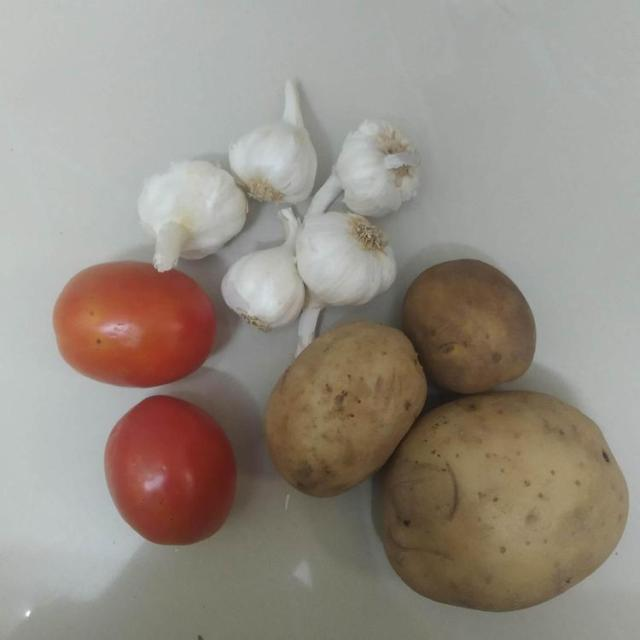Organik: (372, 389, 640, 610), (262, 321, 423, 502), (85, 390, 260, 554), (51, 266, 225, 390), (406, 259, 541, 387), (133, 158, 245, 270), (295, 211, 398, 322), (322, 119, 423, 216), (232, 121, 323, 202), (218, 256, 310, 334)
